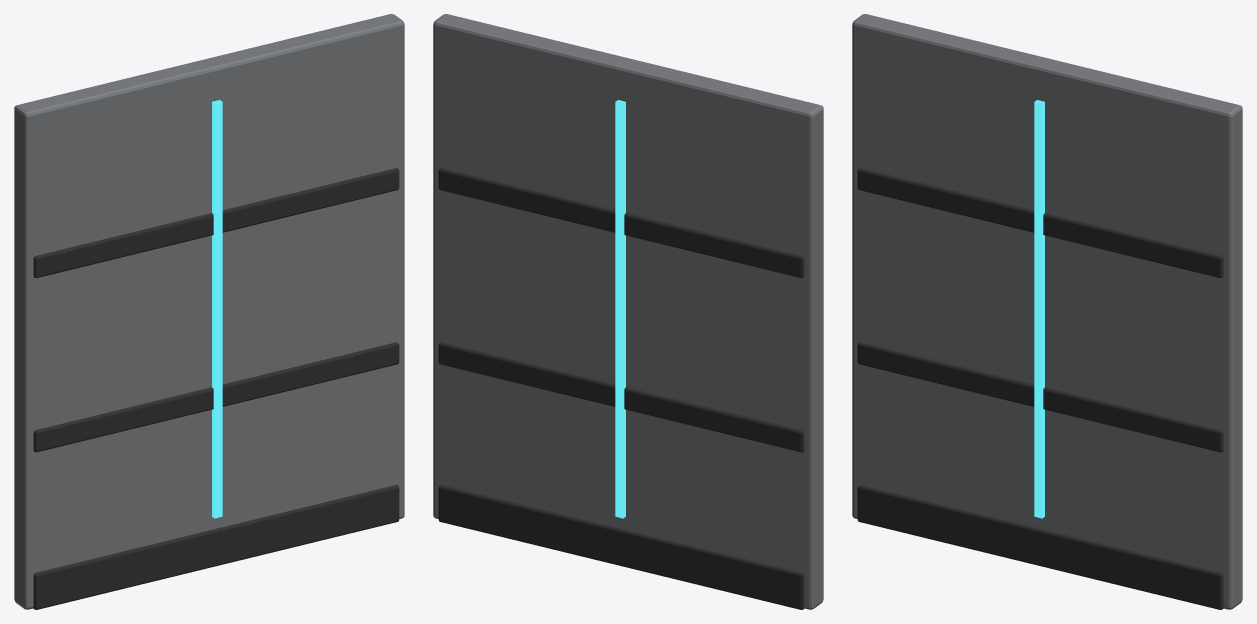
The model's file is door.glb.
3 views of the same model, side by side, from view 1: azimuth 30°, elevation 25°; view 2: azimuth 150°, elevation 25°; view 3: azimuth 330°, elevation 25° (orthographic).
Parts seen in each view (by area): view 1: Panel; view 2: Panel; view 3: Panel.
Part boxes in pixels (left/top/right/bottom): Panel: left=14, top=14, right=404, bottom=609; Panel: left=433, top=14, right=823, bottom=609; Panel: left=852, top=14, right=1242, bottom=609.
Size of the model in its own units: 2.4 by 3 by 0.2.
